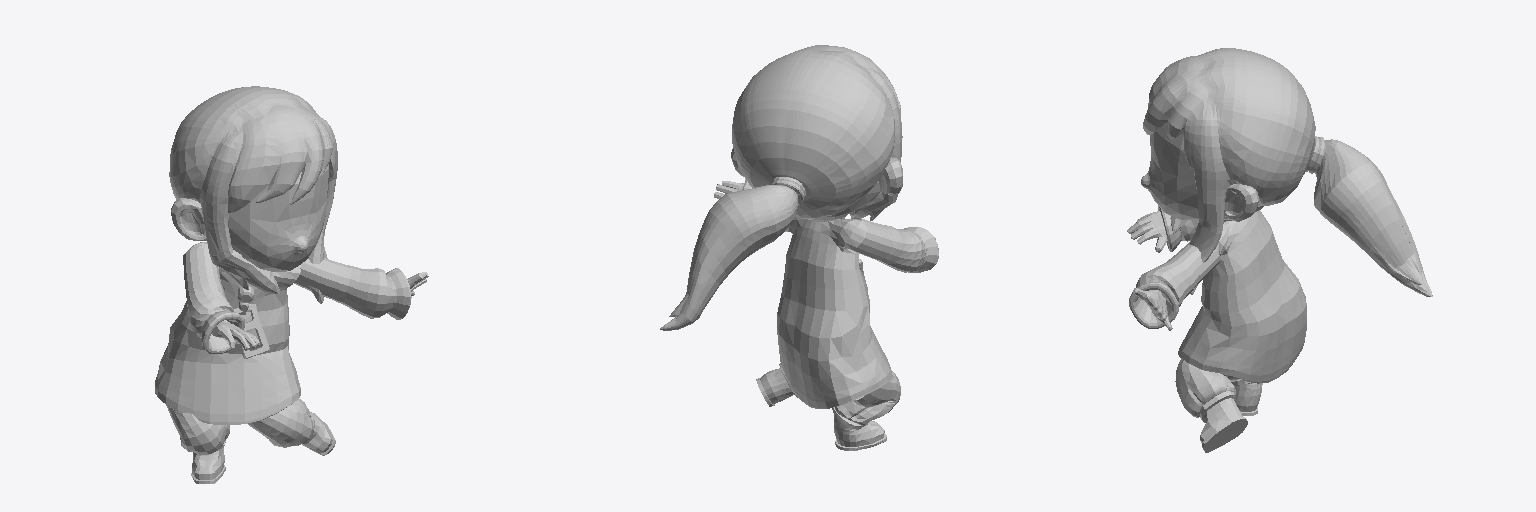
The picture shows the model from 3 angles: view 1: azimuth 30°, elevation 25°; view 2: azimuth 150°, elevation 25°; view 3: azimuth 270°, elevation 25°; orthographic projection.
Parts seen in each view (by area): view 1: hatkidbody.png, hatkidhair.png, hatkidbody; view 2: hatkidhair.png, hatkidbody.png, hatkidhair, hatkidbody; view 3: hatkidbody.png, hatkidhair.png, hatkidhair, hatkidbody.
Boxes of the visible parts, box(x1,y1,x2,y2) form: hatkidbody.png: box(155, 164, 428, 424); hatkidhair.png: box(169, 86, 337, 303); hatkidbody: box(166, 399, 335, 483); hatkidhair.png: box(732, 45, 902, 233); hatkidbody.png: box(714, 148, 938, 408); hatkidhair: box(660, 177, 805, 330); hatkidbody: box(756, 363, 900, 450); hatkidbody.png: box(1127, 122, 1306, 383); hatkidhair.png: box(1143, 48, 1315, 262); hatkidhair: box(1306, 136, 1432, 296); hatkidbody: box(1175, 358, 1262, 452).
Bounding box in the file's own units: 42.86 × 68 × 50.4.